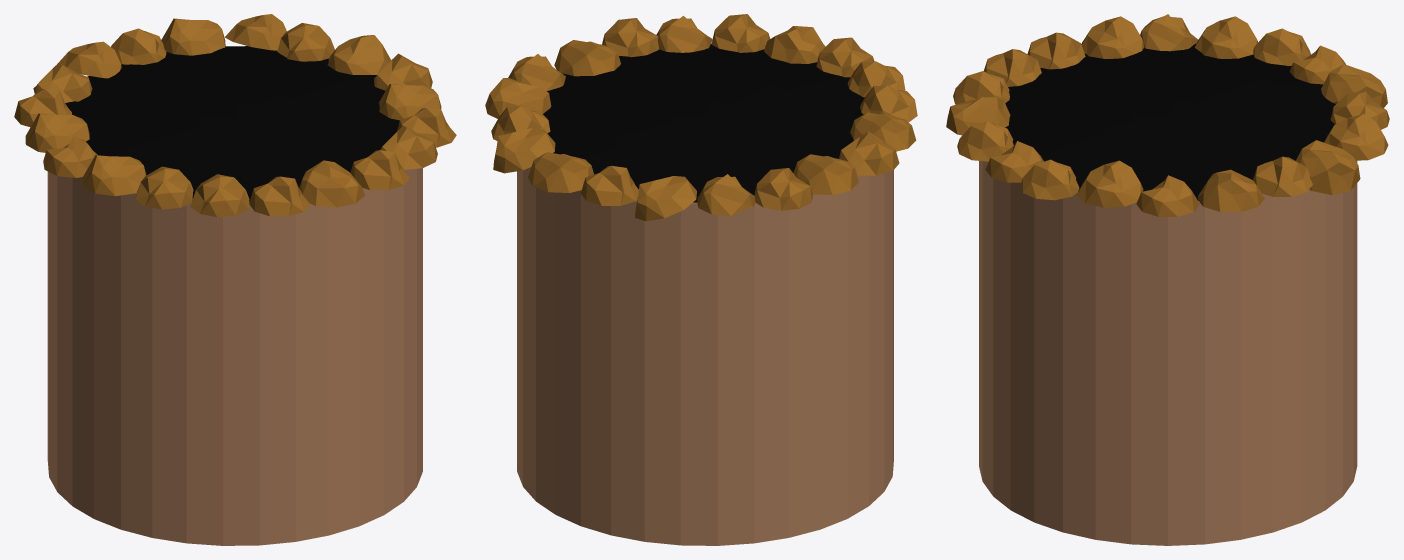
The model's file is hole.fbx.
3 renders of one model, left to right at view 1: azimuth 30°, elevation 25°; view 2: azimuth 150°, elevation 25°; view 3: azimuth 270°, elevation 25°, orthographic.
Visible parts, largest first — view 1: 円柱, 球, ICO球.006, ICO球.015, ICO球.009, ICO球.014, ICO球.016, ICO球.001, ICO球.004, ICO球.007, ICO球.010, ICO球.002 (+10 smaller); view 2: 円柱, 球, ICO球.012, ICO球.009, ICO球.017, ICO球.004, ICO球.018, ICO球.005, ICO球.008, ICO球.003, ICO球.006, ICO球.011 (+10 smaller); view 3: 円柱, 球, ICO球.017, ICO球.018, ICO球.001, ICO球.009, ICO球.015, ICO球.004, ICO球.002, ICO球.019, ICO球, ICO球.012 (+10 smaller).
Part boxes in pixels (x1=…): 円柱: x1=47, y1=168, x2=422, y2=545; 球: x1=65, y1=46, x2=399, y2=201; ICO球.006: x1=299, y1=160, x2=364, y2=207; ICO球.015: x1=82, y1=155, x2=146, y2=196; ICO球.009: x1=161, y1=18, x2=225, y2=55; ICO球.014: x1=190, y1=174, x2=249, y2=217; ICO球.016: x1=135, y1=166, x2=193, y2=209; ICO球.001: x1=327, y1=35, x2=391, y2=74; ICO球.004: x1=25, y1=113, x2=89, y2=152; ICO球.007: x1=249, y1=176, x2=309, y2=216; ICO球.010: x1=350, y1=150, x2=409, y2=189; ICO球.002: x1=277, y1=23, x2=334, y2=61; 円柱: x1=517, y1=167, x2=893, y2=545; 球: x1=543, y1=44, x2=864, y2=202; ICO球.012: x1=635, y1=176, x2=696, y2=221; ICO球.009: x1=528, y1=152, x2=593, y2=192; ICO球.017: x1=493, y1=128, x2=555, y2=173; ICO球.004: x1=793, y1=154, x2=858, y2=194; ICO球.018: x1=554, y1=40, x2=620, y2=76; ICO球.005: x1=754, y1=168, x2=812, y2=210; ICO球.008: x1=581, y1=165, x2=638, y2=205; ICO球.003: x1=839, y1=131, x2=899, y2=175; ICO球.006: x1=764, y1=26, x2=825, y2=63; ICO球.011: x1=697, y1=174, x2=755, y2=215; 円柱: x1=979, y1=160, x2=1357, y2=545; 球: x1=1005, y1=43, x2=1335, y2=200; ICO球.017: x1=1295, y1=140, x2=1360, y2=195; ICO球.018: x1=1077, y1=160, x2=1143, y2=207; ICO球.001: x1=1197, y1=169, x2=1264, y2=211; ICO球.009: x1=1324, y1=114, x2=1388, y2=160; ICO球.015: x1=1081, y1=16, x2=1143, y2=58; ICO球.004: x1=1194, y1=16, x2=1258, y2=58; ICO球.002: x1=1253, y1=156, x2=1312, y2=196; ICO球.019: x1=1020, y1=159, x2=1079, y2=200; ICO球: x1=1136, y1=175, x2=1199, y2=216; ICO球.012: x1=1321, y1=64, x2=1387, y2=107.
Size of the model in its own units: 234 by 217 by 234.
